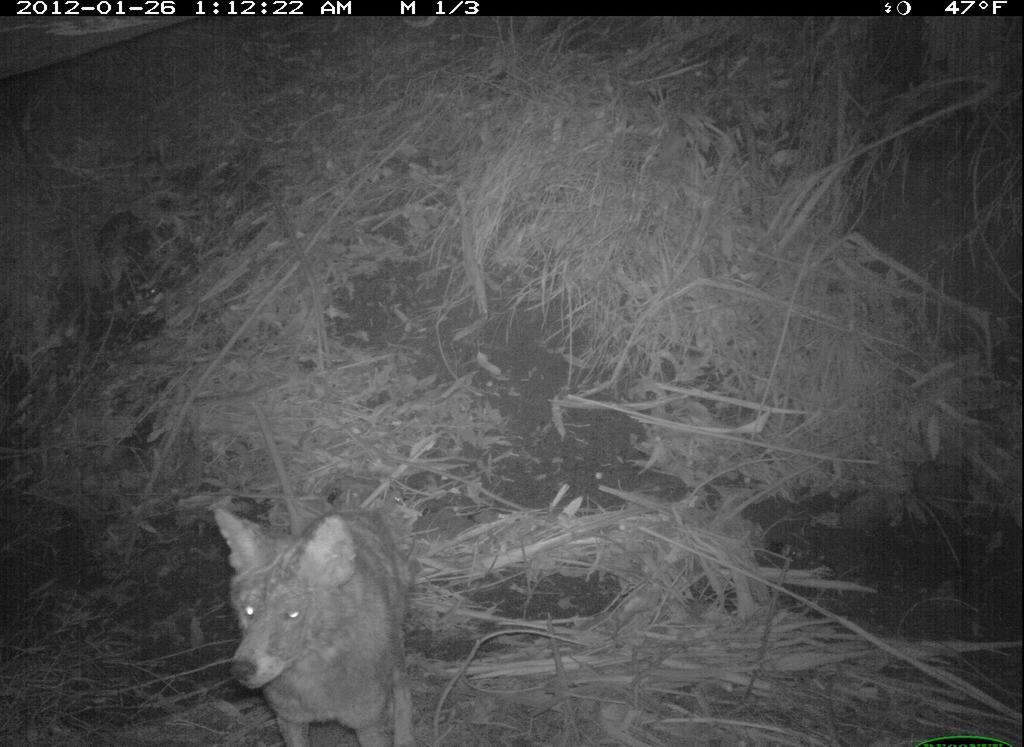coyote: (199, 484, 426, 747)
